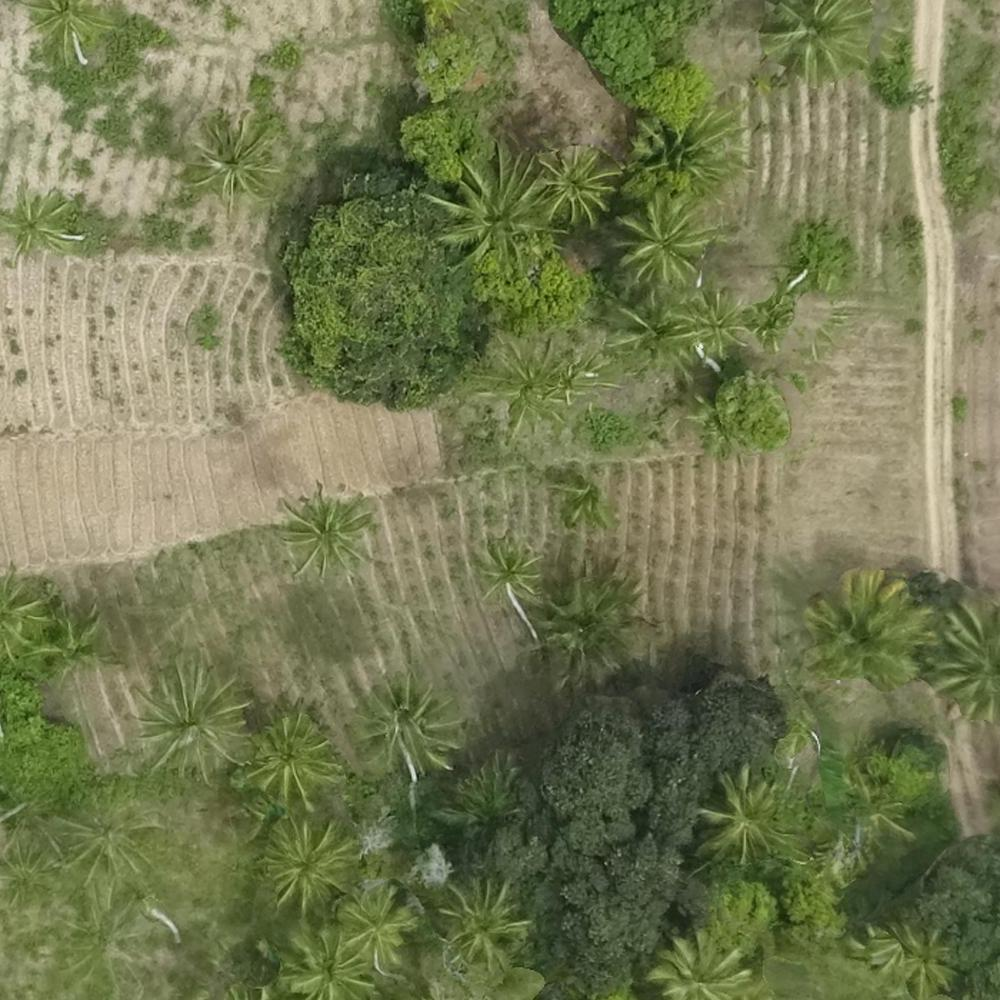Palm: (801, 567, 924, 685), (122, 663, 247, 776), (433, 159, 549, 264), (357, 676, 460, 772), (272, 483, 374, 578), (243, 716, 341, 810), (637, 102, 737, 193), (260, 812, 358, 902), (755, 5, 870, 81), (186, 113, 282, 200), (698, 768, 784, 860), (440, 884, 530, 968), (617, 199, 709, 280), (649, 932, 757, 998), (277, 922, 371, 997), (2, 179, 83, 262), (335, 882, 418, 963), (467, 531, 542, 600), (542, 149, 610, 222), (688, 285, 748, 358)
